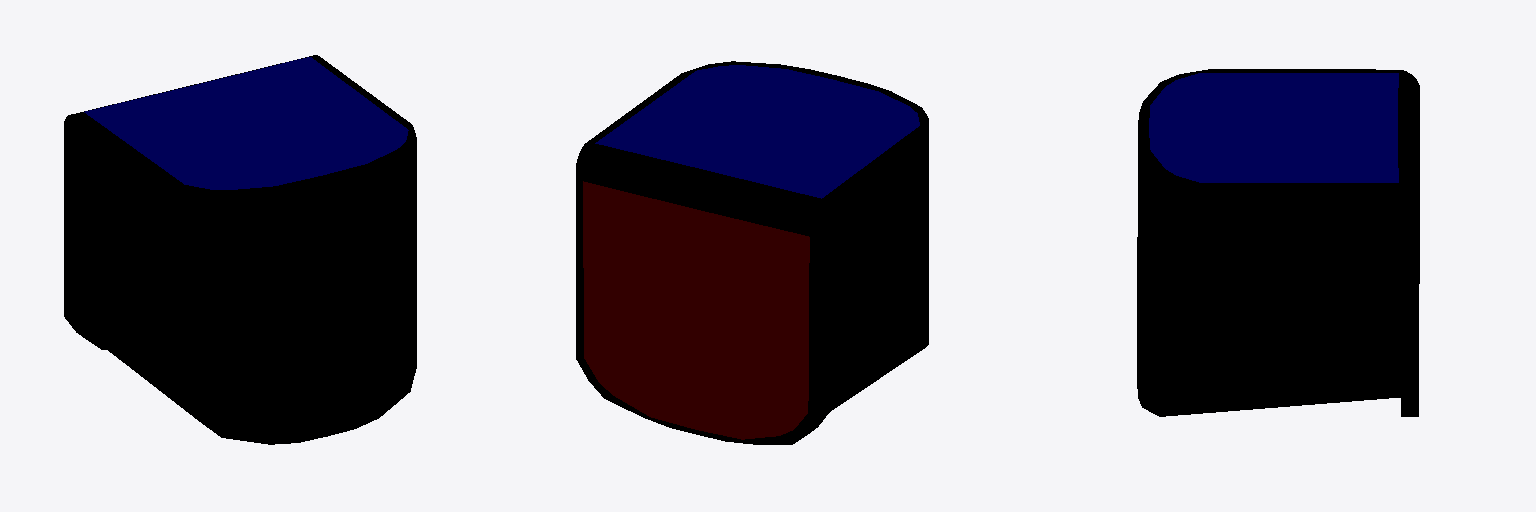
The model's file is edgeBR.obj.
3 renders of one model, left to right at view 1: azimuth 30°, elevation 25°; view 2: azimuth 150°, elevation 25°; view 3: azimuth 270°, elevation 25°, orthographic.
Visible parts, largest first — view 1: BasicEdge_Plane.006, EdgeSide1_Plane.008; view 2: EdgeSide2_Plane.009, BasicEdge_Plane.006, EdgeSide1_Plane.008; view 3: BasicEdge_Plane.006, EdgeSide1_Plane.008.
Part boxes in pixels (x1,y1,x2,y2): BasicEdge_Plane.006: (64, 55, 416, 444); EdgeSide1_Plane.008: (84, 57, 408, 189); EdgeSide2_Plane.009: (583, 181, 809, 439); BasicEdge_Plane.006: (576, 61, 928, 444); EdgeSide1_Plane.008: (595, 65, 919, 198); BasicEdge_Plane.006: (1137, 69, 1419, 416); EdgeSide1_Plane.008: (1149, 73, 1398, 182).
Size of the model in its own units: 0.18 by 0.1802 by 0.182.